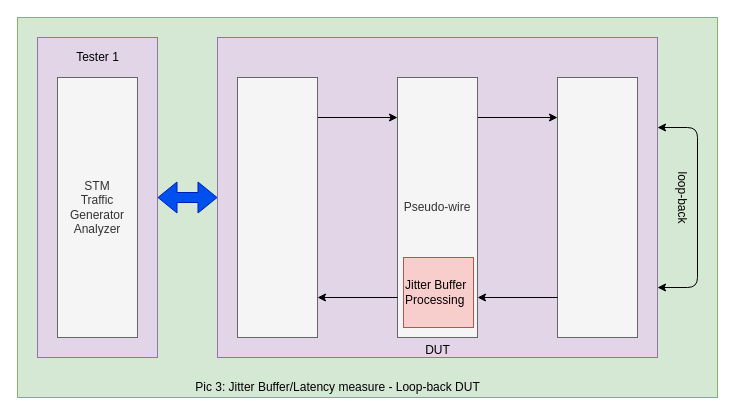
Some shapes in this 735 by 415 pixel diagram are drawn without their labels. Each missing label, with the centre of its shape:
"Ethernet" goes at (x=597, y=207).
"TDM line" goes at (x=277, y=207).
